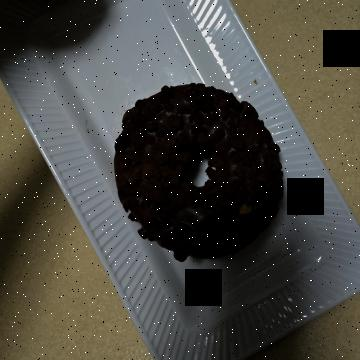doughnut: (78, 64, 278, 255)
